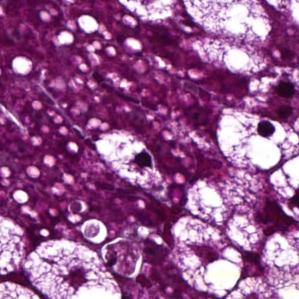ballooning: (169, 213, 245, 299), (21, 235, 123, 299), (216, 107, 288, 172), (94, 127, 161, 194)
